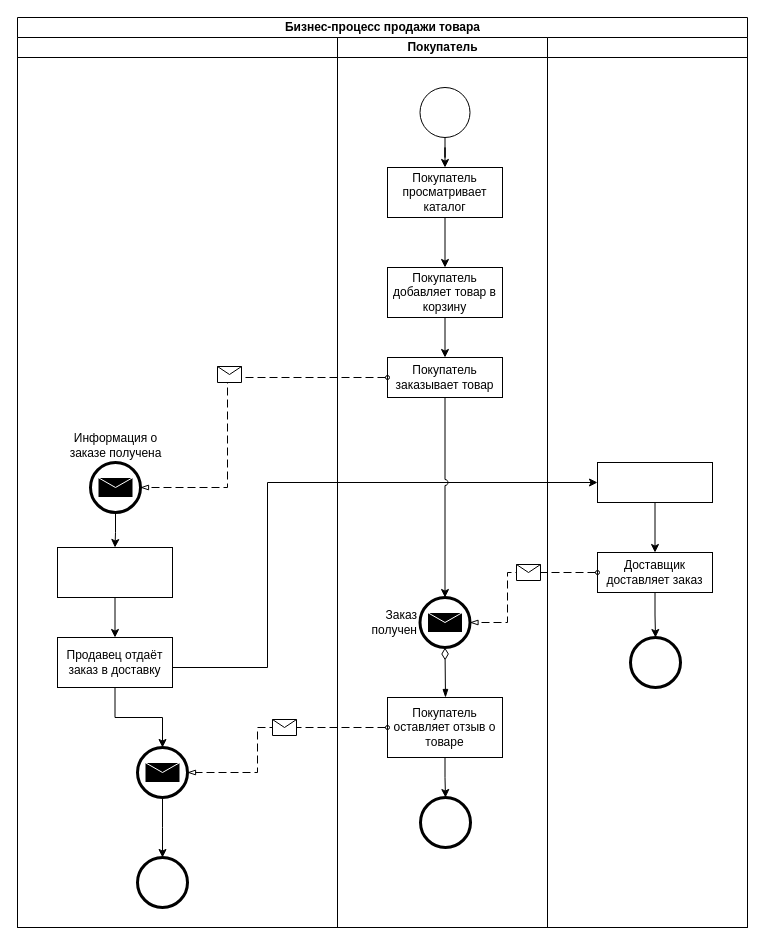
Some shapes in this 765 by 945 pixel diagram are drawn without their labels. The box of each missing label's shape, as (x1, y1, x2, y2) in pixels:
Доставка (внешний актор): (546, 36, 748, 928)
Доставщик принимает заказ: (596, 462, 712, 502)
Отзыв получен: (136, 746, 188, 798)
Продавец собирает заказ: (56, 546, 172, 598)
Продавец-партнёр: (16, 36, 338, 928)
